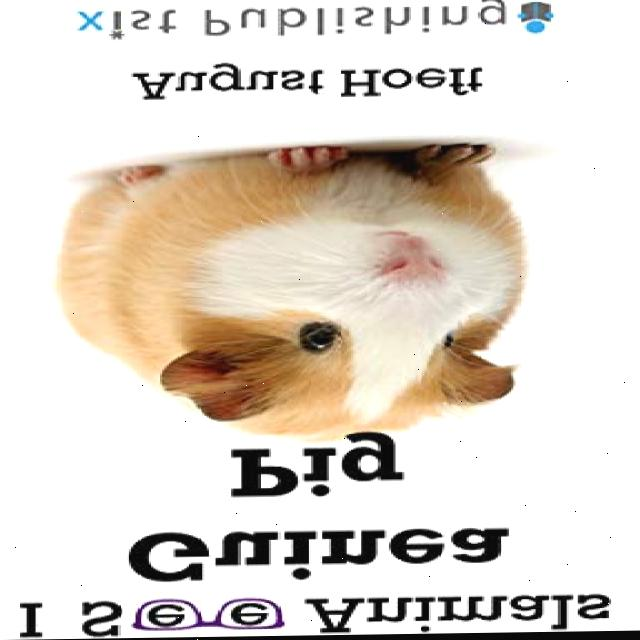guinea pig: (57, 140, 530, 445)
